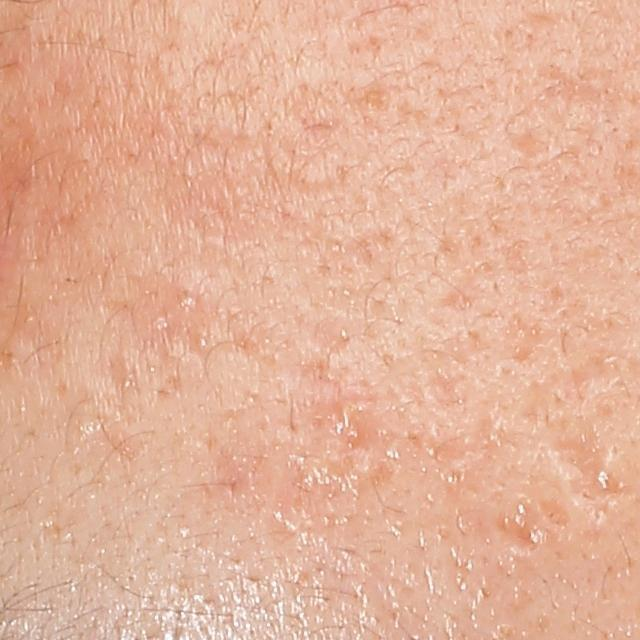atrophic_scar: (549, 415, 629, 524), (494, 500, 549, 558), (506, 387, 561, 444)
comedo: (187, 328, 213, 356), (150, 311, 175, 332), (172, 292, 194, 314)
